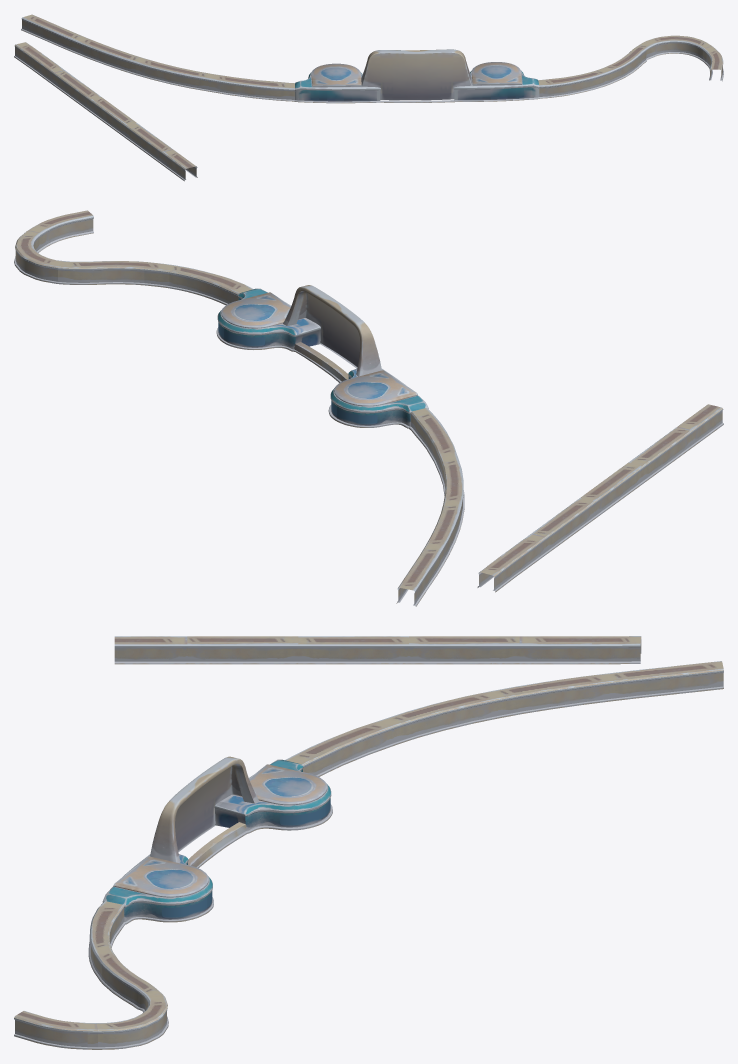
Rendered from pref_sm_beach_winter_techfield_mirror_lv3.fbx.
3 renders of one model, top to bottom at view 1: azimuth 30°, elevation 25°; view 2: azimuth 150°, elevation 25°; view 3: azimuth 270°, elevation 25°, orthographic. The views are drawn at different scales.
Visible parts, largest first — view 1: sm_beach_winter_techfield_b_mirror_lv3; view 2: sm_beach_winter_techfield_b_mirror_lv3; view 3: sm_beach_winter_techfield_b_mirror_lv3.
Part boxes in pixels (<box>): sm_beach_winter_techfield_b_mirror_lv3: <box>14,14,723,181</box>; sm_beach_winter_techfield_b_mirror_lv3: <box>14,210,723,606</box>; sm_beach_winter_techfield_b_mirror_lv3: <box>14,636,723,1049</box>.
Bounding box in the file's own units: 52.84 × 4.47 × 40.05.
